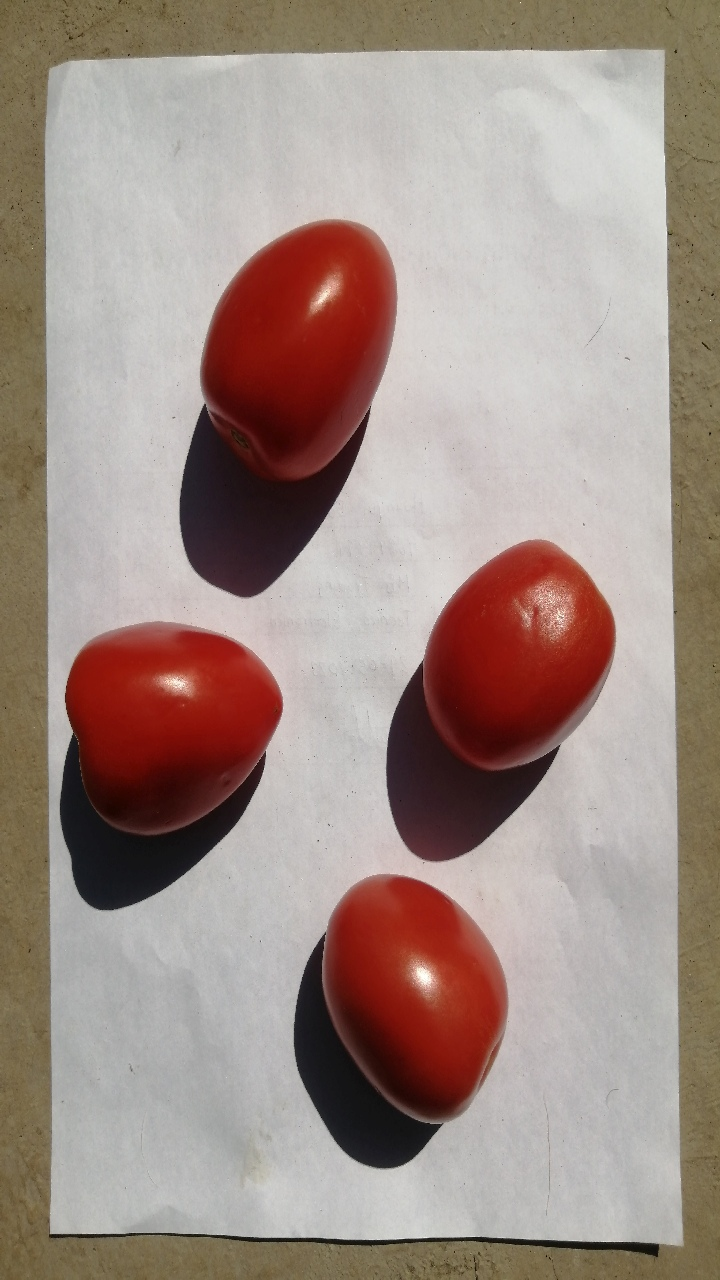tomateRojo: (172, 194, 418, 499), (286, 852, 518, 1135), (51, 606, 294, 860), (403, 526, 623, 777)
